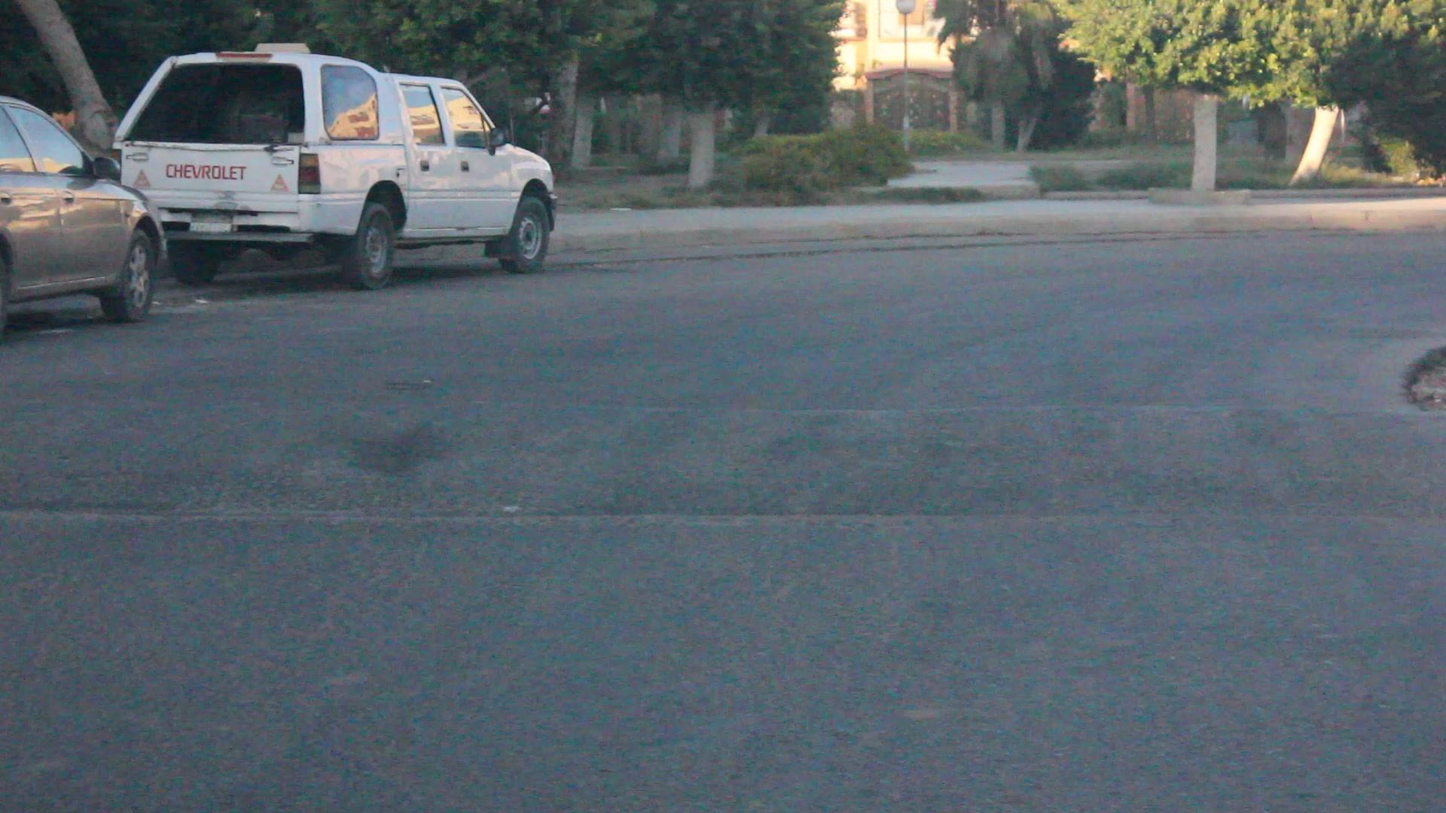Bump: (0, 337, 1446, 536)
